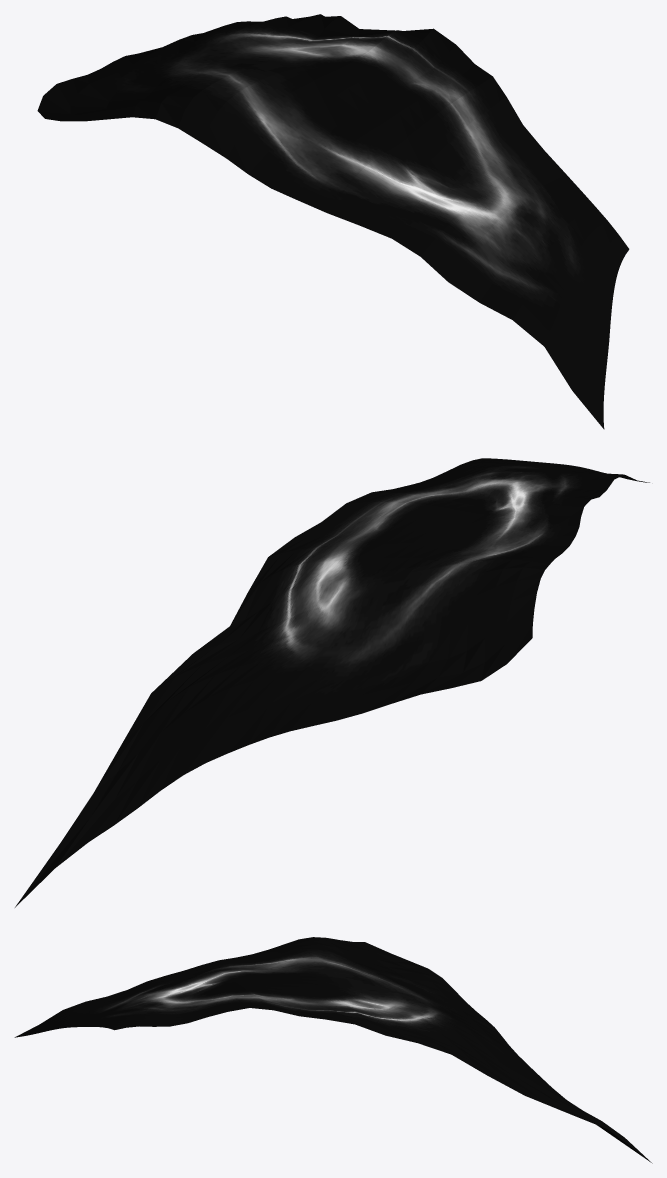
File: 0249_chibang01.glb
3 views of the same model, one above another, from view 1: azimuth 30°, elevation 25°; view 2: azimuth 150°, elevation 25°; view 3: azimuth 270°, elevation 25° (orthographic). The views are drawn at different scales.
Bounding box in the file's own units: 0.7988 × 0.541 × 2.2.
Materials: 1 (1 with a texture image).
